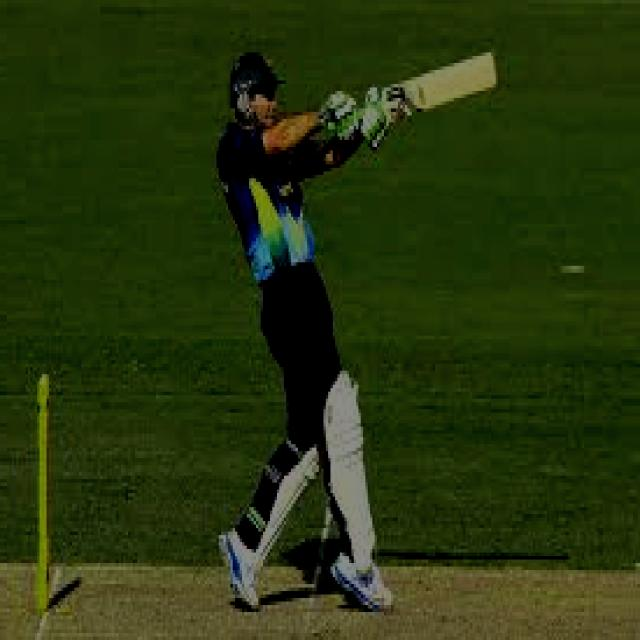toe: (488, 47, 498, 94)
